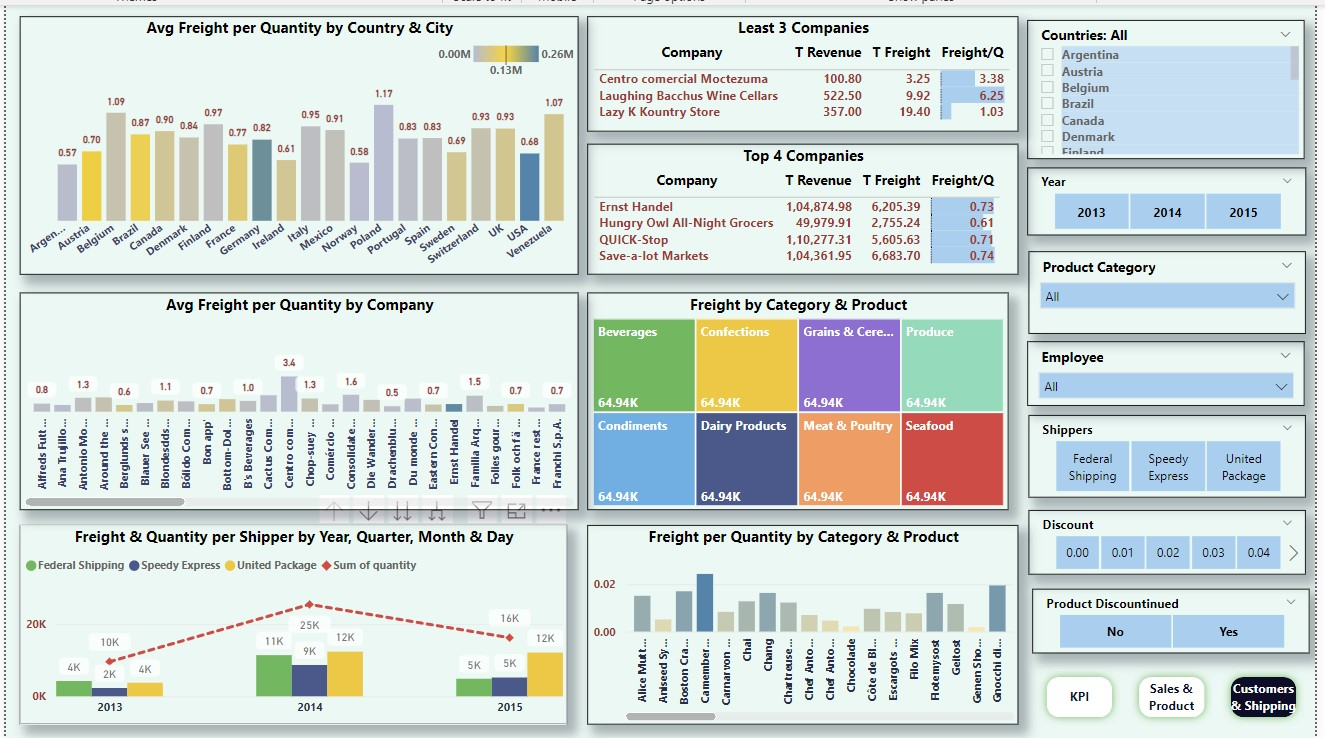

This screenshot's page, from the dashboard's own definition file:
{"tool":"powerbi","page":{"name":"Customers & Shipping","canvas":[1280,720],"ordinal":2},"visuals":[{"type":"slicer","fields":{"Values":["customers.country"]},"box":[998.7,14.7,271.4,135.7],"z":0},{"type":"slicer","fields":{"Values":["orders.orderDate.Variation.Date Hierarchy.Year"]},"box":[998.7,158.9,272.6,66],"z":1000},{"type":"slicer","fields":{"Values":["categories.categoryName"]},"box":[999.9,240.8,271.4,80.7],"z":2000},{"type":"slicer","fields":{"Values":["employees.employeeName"]},"box":[998.7,328.8,271.4,63.6],"z":3000},{"type":"slicer","fields":{"Values":["shippers.companyName"]},"box":[999.9,401,271.4,80.7],"z":4000},{"type":"slicer","fields":{"Values":["order_details.discount"]},"box":[999.9,493.9,271.4,63.6],"z":5000},{"type":"slicer","fields":{"Values":["products.discontinued -Y/N"]},"box":[1003.6,570.9,271.4,63.6],"z":6000},{"type":"pageNavigator","box":[1009.7,649.1,261.6,55],"z":7000},{"type":"treemap","title":"Freight by Category & Product","fields":{"Group":["categories.categoryName","products.productName"],"Values":["Sum(orders.freight)"]},"box":[568.1,281.3,411.7,212.7],"z":13000},{"type":"lineClusteredColumnComboChart","title":"Freight & Quantity per Shipper by Year, Quarter, Month & Day","fields":{"Category":["orders.orderDate.Variation.Date Hierarchy.Year","orders.orderDate.Variation.Date Hierarchy.Quarter","orders.orderDate.Variation.Date Hierarchy.Month","orders.orderDate.Variation.Date Hierarchy.Day"],"Y":["Sum(orders.freight)"],"Series":["shippers.companyName"],"Y2":["Sum(order_details.quantity)"]},"box":[13.7,509.1,535.2,194.9],"z":15000},{"type":"tableEx","title":"Top 4 Companies","fields":{"Values":["customers.companyName","Sum(order_details.Revenue)","Sum(orders.freight)","order_details.Quantity/Freight"]},"box":[568.1,135.8,421.3,127.6],"z":15001},{"type":"clusteredColumnChart","title":"Freight per Quantity by Category & Product","fields":{"Category":["categories.categoryName","products.productName"],"Y":["order_details.Quantity/Freight"]},"box":[568.4,508.5,421.7,195.6],"z":15003},{"type":"clusteredColumnChart","title":"Avg Freight per Quantity by Country & City","fields":{"Category":["customers.country","customers.city"],"Y":["order_details.Quantity/Freight"]},"box":[13.7,11,546.1,252.5],"z":15004},{"type":"lineClusteredColumnComboChart","title":"Avg Freight per Quantity by Company","fields":{"Y":["order_details.Quantity/Freight"],"Category":["customers.companyName"]},"box":[13.7,281.3,546.1,212.7],"z":15005},{"type":"tableEx","title":"Least 3 Companies","fields":{"Values":["customers.companyName","Sum(order_details.Revenue)","Sum(orders.freight)","order_details.Quantity/Freight"]},"box":[568.1,11,421.3,112.5],"z":15006}]}

Visuals, with their boxes in screenshot pixels (x1, y1, x2, y2), scaled from the page's 1280x720 canvas onto the 1325x738 screenshot:
slicer - customers.country: (1034, 15, 1315, 154)
slicer - orders.orderDate.Variation.Date Hierarchy.Year: (1034, 163, 1316, 231)
slicer - categories.categoryName: (1035, 247, 1316, 330)
slicer - employees.employeeName: (1034, 337, 1315, 402)
slicer - shippers.companyName: (1035, 411, 1316, 494)
slicer - order_details.discount: (1035, 506, 1316, 571)
slicer - products.discontinued -Y/N: (1039, 585, 1320, 650)
pageNavigator: (1045, 665, 1316, 722)
"Freight by Category & Product" treemap: (588, 288, 1014, 506)
"Freight & Quantity per Shipper by Year, Quarter, Month & Day" lineClusteredColumnComboChart: (14, 522, 568, 722)
"Top 4 Companies" tableEx: (588, 139, 1024, 270)
"Freight per Quantity by Category & Product" clusteredColumnChart: (588, 521, 1025, 722)
"Avg Freight per Quantity by Country & City" clusteredColumnChart: (14, 11, 579, 270)
"Avg Freight per Quantity by Company" lineClusteredColumnComboChart: (14, 288, 579, 506)
"Least 3 Companies" tableEx: (588, 11, 1024, 127)
